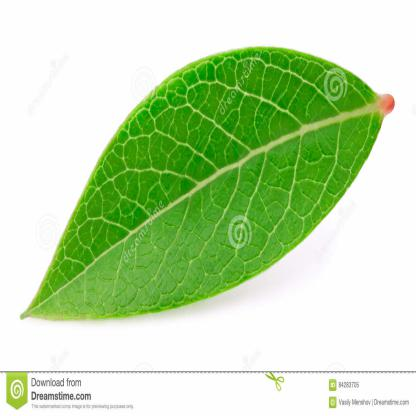Blueberry leaf: (14, 45, 401, 332)
